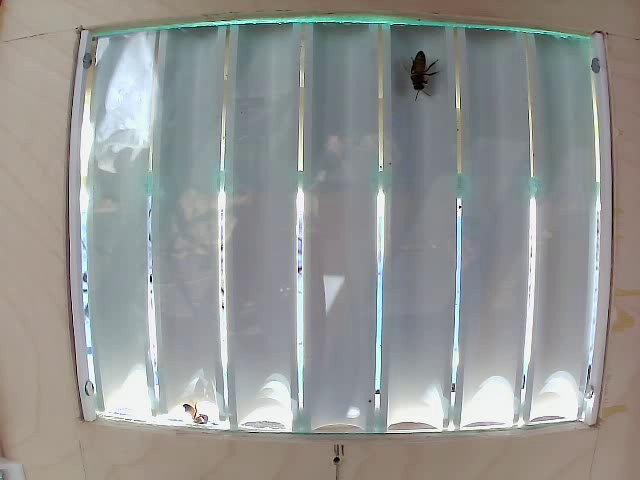bee: (396, 42, 438, 105)
